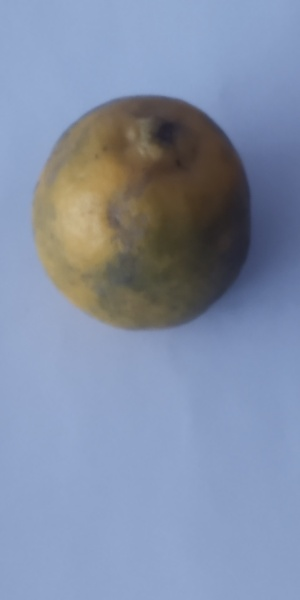BAD: (32, 89, 256, 339)
